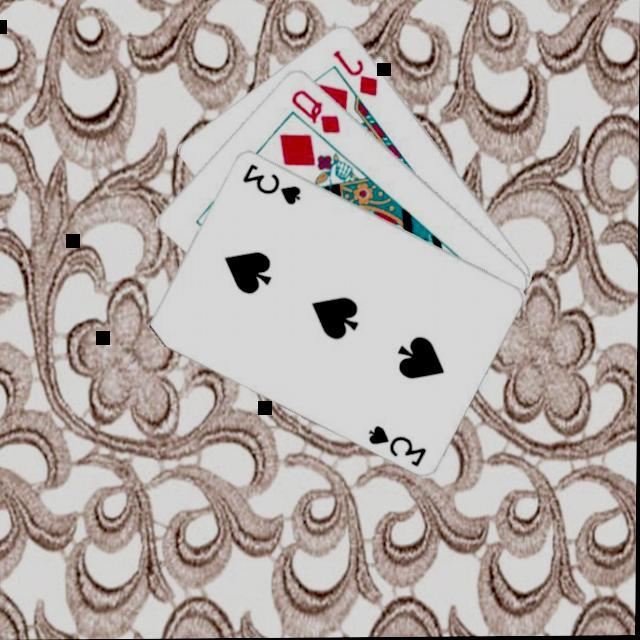3S: (364, 423, 430, 471), (239, 162, 303, 210)
JD: (328, 48, 380, 101)
QD: (287, 87, 343, 139)
